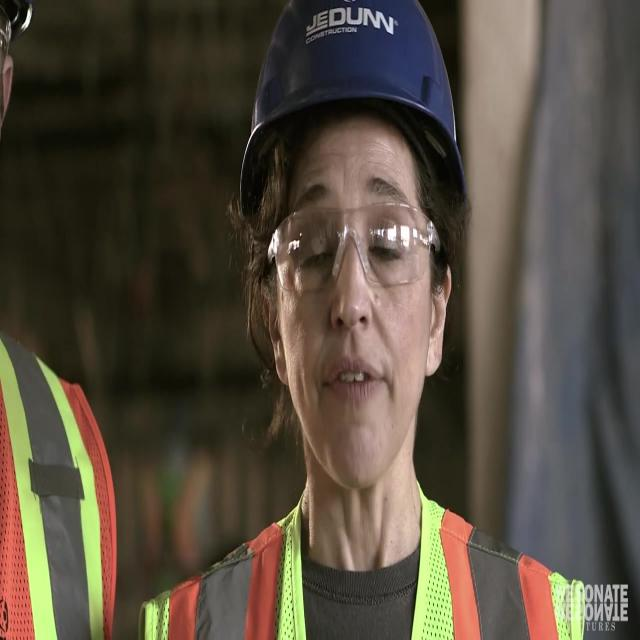Reflective-Jacket: (137, 492, 605, 640), (0, 294, 126, 640)
Safety-Helmet: (234, 3, 476, 236)
